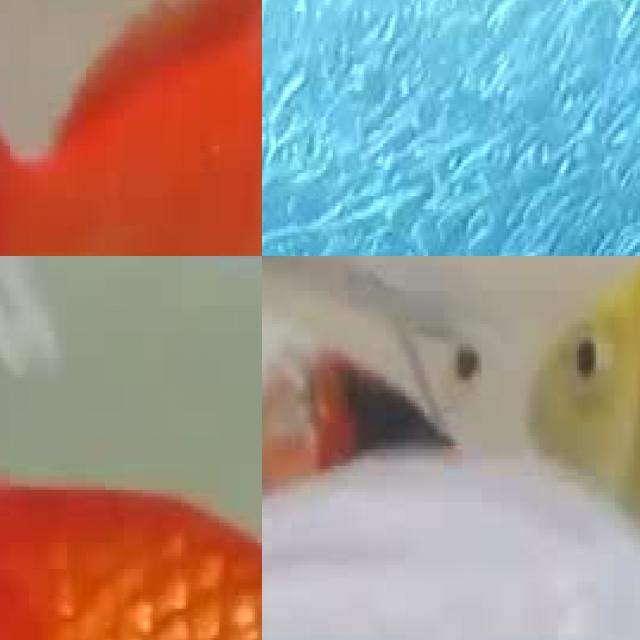fish: (0, 0, 262, 256), (510, 256, 640, 640)
